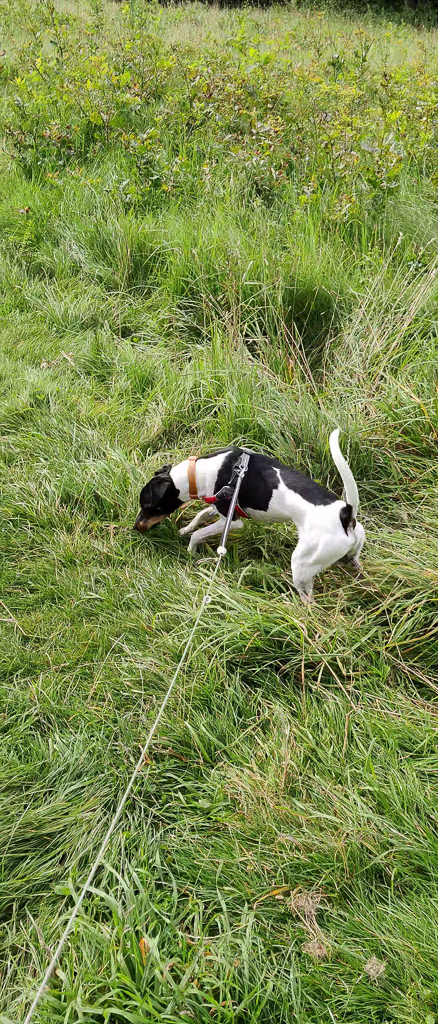Dog: (118, 411, 385, 621)
